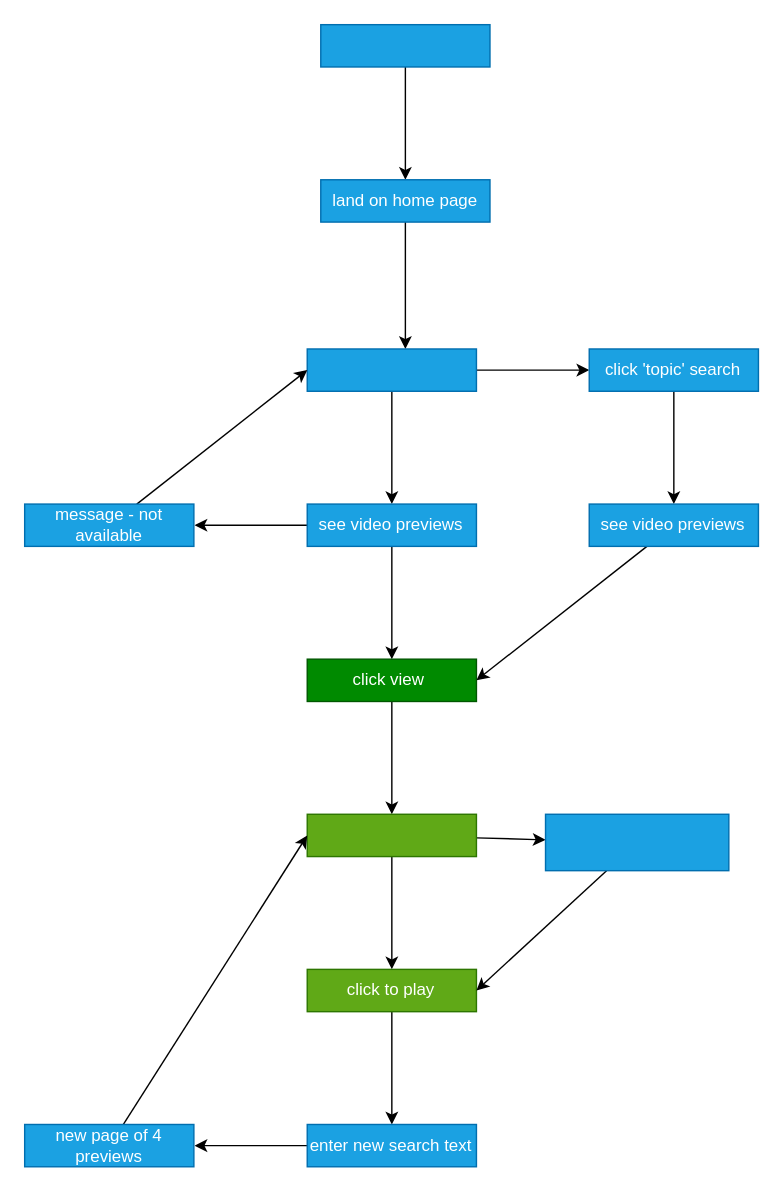
Image size: 784x1191. Some labels were removed from this diagram. Here are the shapes that lost their labels. From the top down, the centre of each, then its label:
At point (404, 45): "user jouney".
At point (391, 369): "enter topic".
At point (391, 835): "new page with video".
At point (636, 842): "read description - optional".
